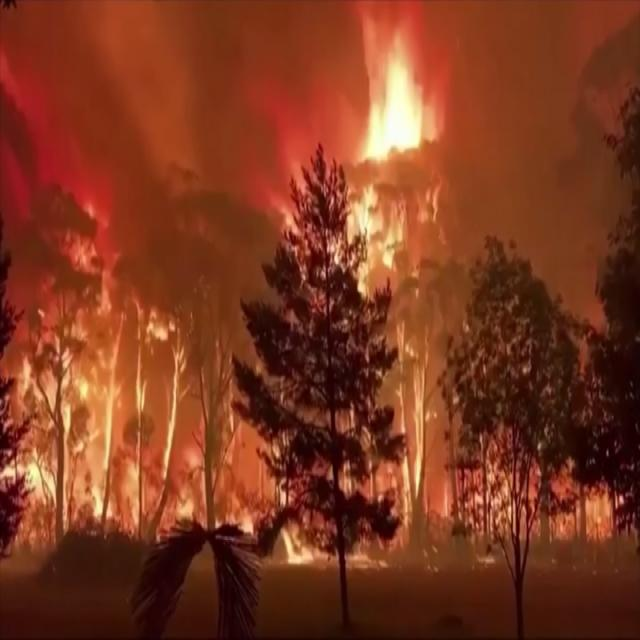Smoke: (0, 0, 230, 313)
